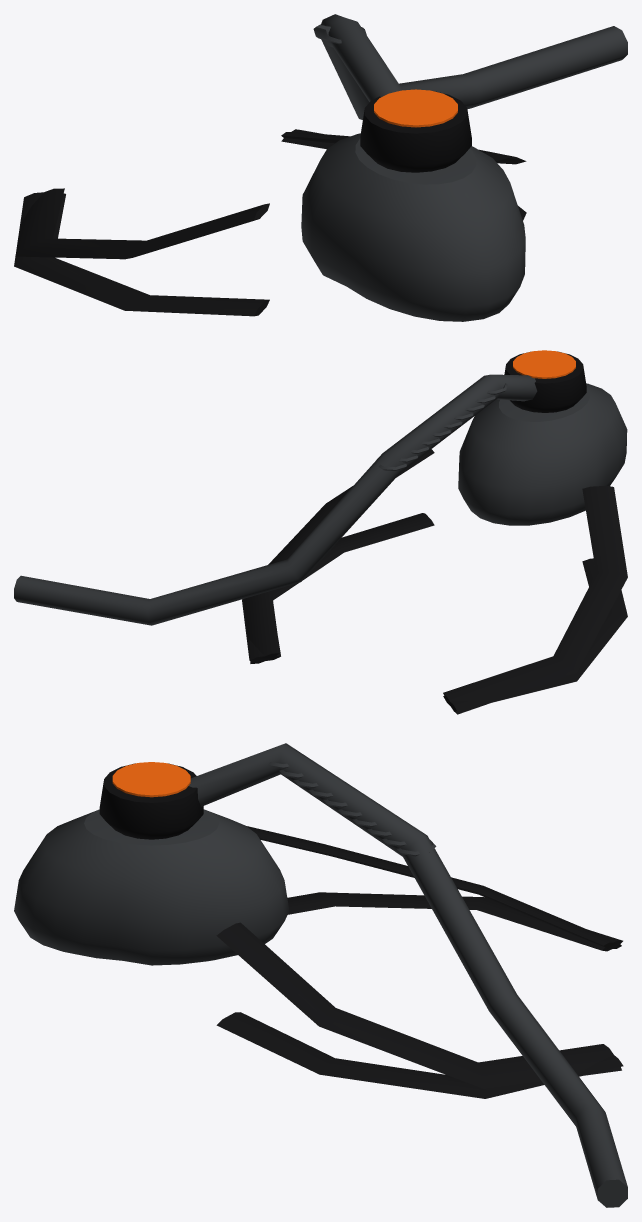
The model's file is o2_mask.glb.
3 renders of one model, top to bottom at view 1: azimuth 30°, elevation 25°; view 2: azimuth 150°, elevation 25°; view 3: azimuth 270°, elevation 25°, orthographic. The views are drawn at different scales.
Visible parts, largest first — view 1: o2_mask; view 2: o2_mask; view 3: o2_mask.
Part boxes in pixels (left/top/right/bottom): o2_mask: left=14, top=14, right=627, bottom=321; o2_mask: left=14, top=350, right=627, bottom=714; o2_mask: left=14, top=743, right=627, bottom=1207.
Bounding box in the file's own units: 0.3296 × 0.1329 × 0.2796.
